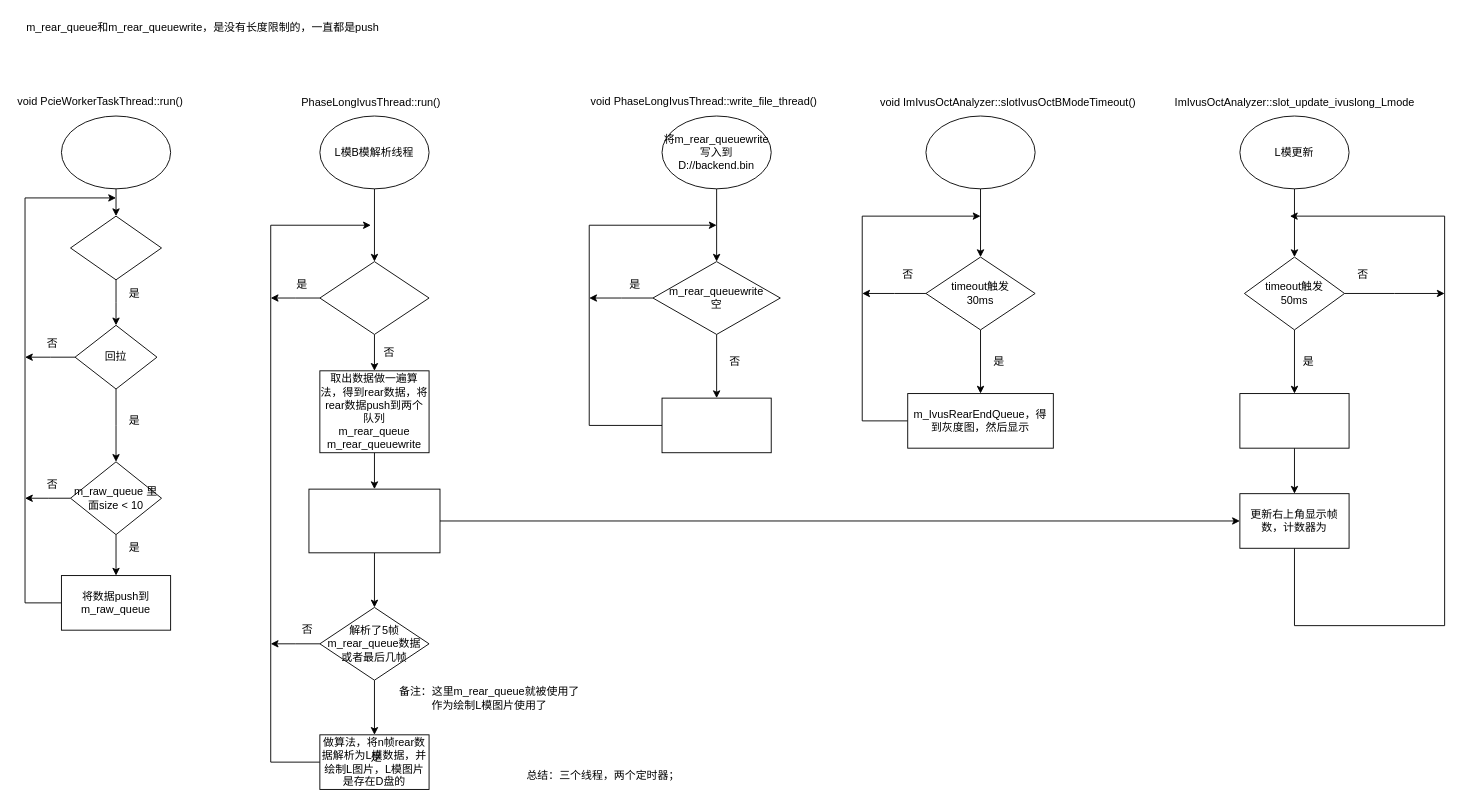
Some shapes in this 1468 by 805 pixel diagram are drawn without their labels. The shapes that lost their labels are listed below. From the top down, each one's centre as x and y in pixels, then its label:
At [116,152]: "数据采集线程".
At [980,152]: "B模刷新".
At [116,247]: "得到FPGA数据".
At [374,297]: "m_raw_queue 空".
At [716,425]: "将m_rear_queuewrite 里所有数据都写入 D://backend.bin".
At [1294,420]: "从最大的背景图里面截取一部分图片进行显示".
At [374,520]: "m_ivuslong_currentframe 增加1，统计处理的帧数".
